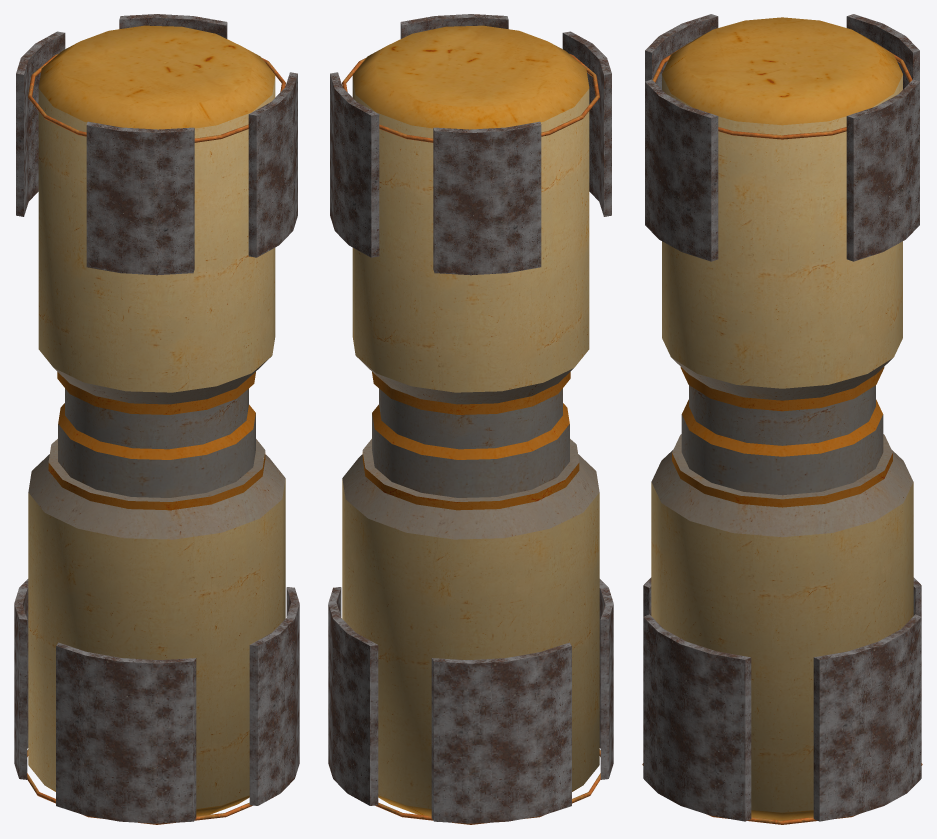
File: Mdl.FuelTank.fbx
3 views of the same model, side by side, from view 1: azimuth 30°, elevation 25°; view 2: azimuth 150°, elevation 25°; view 3: azimuth 270°, elevation 25° (orthographic).
Visible parts, largest first — view 1: FuelTank; view 2: FuelTank; view 3: FuelTank.
Boxes of the visible parts, x1,y1,x2,y2 form: FuelTank: (14,14,299,824); FuelTank: (328,14,613,824); FuelTank: (642,14,922,824).
Size of the model in its own units: 3.21 by 9.08 by 3.21.
1 material, 1 textured.
